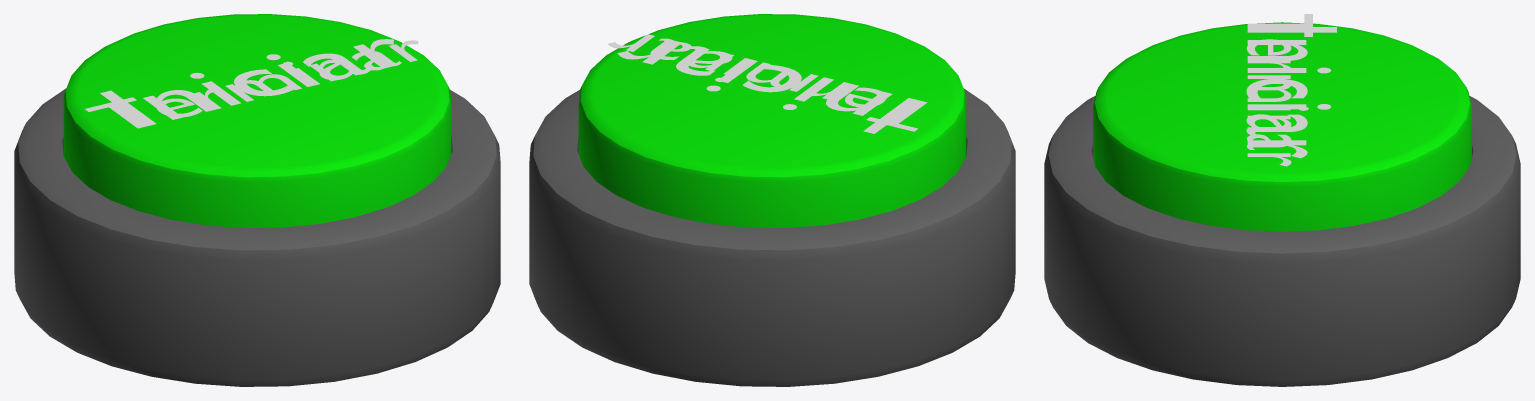
The model's file is Botones.fbx.
3 renders of one model, left to right at view 1: azimuth 30°, elevation 25°; view 2: azimuth 150°, elevation 25°; view 3: azimuth 270°, elevation 25°, orthographic. The views are drawn at different scales.
Parts seen in each view (by area): view 1: Outer, Inicio, Text, Text.001; view 2: Outer, Inicio, Text, Text.001; view 3: Outer, Inicio, Text, Text.001.
Boxes of the visible parts, <box> form: Outer: <box>14,88,500,386</box>; Inicio: <box>63,14,451,227</box>; Text: <box>100,39,393,126</box>; Text.001: <box>85,40,418,128</box>; Outer: <box>529,88,1015,386</box>; Inicio: <box>578,14,966,227</box>; Text: <box>617,40,919,133</box>; Text.001: <box>608,34,927,131</box>; Outer: <box>1044,96,1520,386</box>; Inicio: <box>1093,22,1471,231</box>; Text: <box>1246,27,1336,158</box>; Text.001: <box>1246,14,1312,166</box>.
Size of the model in its own units: 200 by 93.93 by 200.
